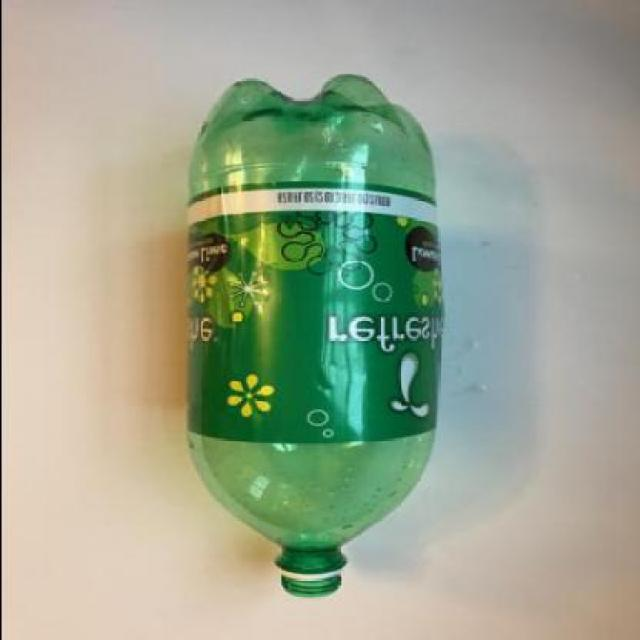PLASTIC: (182, 76, 442, 598), (185, 184, 438, 445)
